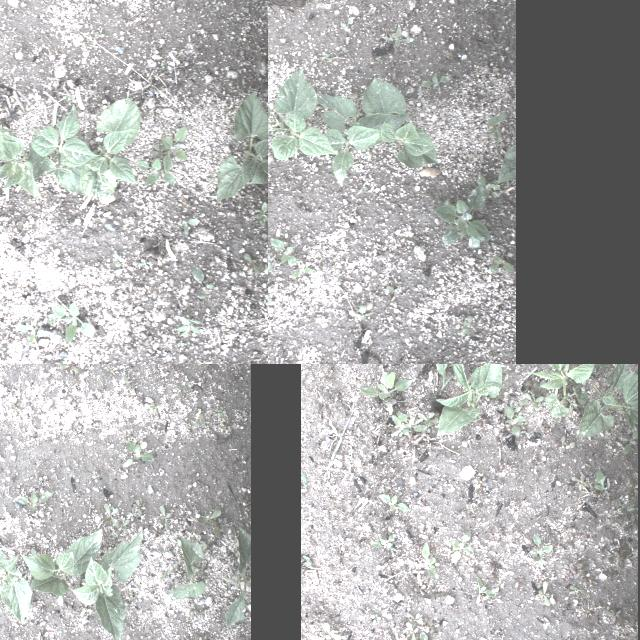crop: (314, 76, 411, 186), (70, 527, 146, 640), (268, 67, 338, 163), (27, 103, 97, 193), (80, 97, 140, 199), (216, 90, 268, 204), (19, 528, 102, 596), (435, 364, 506, 437), (577, 364, 637, 440), (530, 364, 599, 417), (222, 521, 250, 625), (0, 130, 41, 200), (381, 120, 439, 168), (0, 538, 31, 621), (167, 534, 206, 598), (496, 143, 516, 184)
weed: (434, 184, 490, 248), (356, 370, 412, 414), (324, 406, 354, 480), (50, 302, 92, 342), (12, 484, 54, 514), (161, 124, 187, 172), (134, 158, 176, 184), (121, 436, 155, 468), (100, 501, 130, 535), (200, 508, 230, 542), (393, 409, 427, 435), (268, 237, 298, 266), (450, 529, 474, 563), (12, 322, 50, 343), (530, 533, 552, 569), (418, 540, 438, 578), (192, 266, 214, 298), (156, 501, 178, 531), (502, 402, 520, 438), (383, 26, 415, 46), (377, 493, 411, 511), (476, 575, 496, 605), (369, 532, 399, 552), (476, 174, 502, 196), (486, 111, 506, 139), (592, 467, 612, 495), (320, 616, 343, 640), (616, 496, 636, 522), (302, 553, 324, 575), (176, 316, 200, 336), (518, 390, 544, 408), (56, 364, 83, 381), (421, 74, 452, 88), (619, 430, 637, 454), (600, 608, 626, 624), (606, 549, 628, 567), (352, 304, 376, 320), (132, 494, 148, 518), (254, 199, 268, 226), (490, 255, 512, 272), (536, 579, 550, 605), (191, 411, 209, 429), (417, 408, 435, 426), (244, 253, 260, 273), (178, 218, 198, 234), (568, 580, 588, 596), (435, 364, 466, 374), (180, 374, 194, 396), (338, 16, 354, 34), (290, 266, 314, 278), (157, 567, 175, 583), (440, 370, 452, 394), (385, 284, 405, 298), (612, 534, 632, 548), (554, 434, 568, 454), (214, 402, 228, 421), (43, 426, 59, 442), (530, 378, 548, 392), (461, 315, 473, 335), (268, 246, 276, 275), (574, 562, 590, 576), (247, 262, 265, 274), (358, 178, 370, 196), (122, 372, 134, 390), (413, 632, 440, 640), (405, 622, 417, 640), (424, 615, 436, 633), (626, 475, 638, 493), (300, 468, 308, 494), (78, 602, 92, 616), (150, 144, 166, 156), (104, 364, 120, 376), (572, 476, 590, 486), (186, 602, 198, 616), (410, 612, 422, 626), (411, 568, 425, 580), (374, 419, 388, 431), (581, 575, 597, 585), (137, 257, 149, 269), (140, 332, 152, 344), (150, 400, 160, 414), (542, 616, 552, 630), (391, 630, 404, 640), (602, 568, 618, 576), (488, 394, 506, 401), (321, 50, 332, 61), (113, 254, 123, 266), (188, 632, 203, 640), (368, 614, 380, 624), (416, 583, 426, 595), (418, 527, 428, 539), (91, 470, 99, 484), (92, 26, 102, 36), (565, 561, 575, 571), (571, 553, 581, 563), (160, 364, 179, 369), (333, 274, 342, 284), (560, 572, 574, 578), (46, 313, 54, 323), (306, 305, 314, 315), (466, 502, 474, 511), (339, 46, 349, 52), (0, 124, 7, 131), (62, 94, 70, 100), (178, 340, 185, 346), (470, 636, 479, 640), (160, 61, 164, 69), (374, 56, 382, 60), (296, 288, 300, 294)
